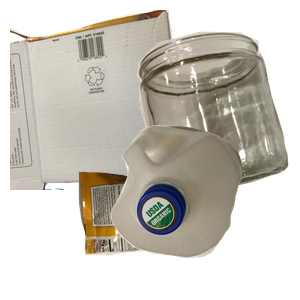cardboard: (10, 10, 191, 190)
glass: (135, 29, 300, 209)
plastic: (108, 123, 300, 300)
trash: (76, 159, 259, 300)
